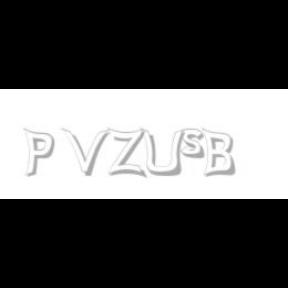B: (201, 128, 235, 178)
P: (23, 128, 55, 178)
U: (140, 128, 184, 178)
V: (61, 128, 109, 176)
Z: (108, 128, 144, 178)
s: (181, 128, 209, 160)
